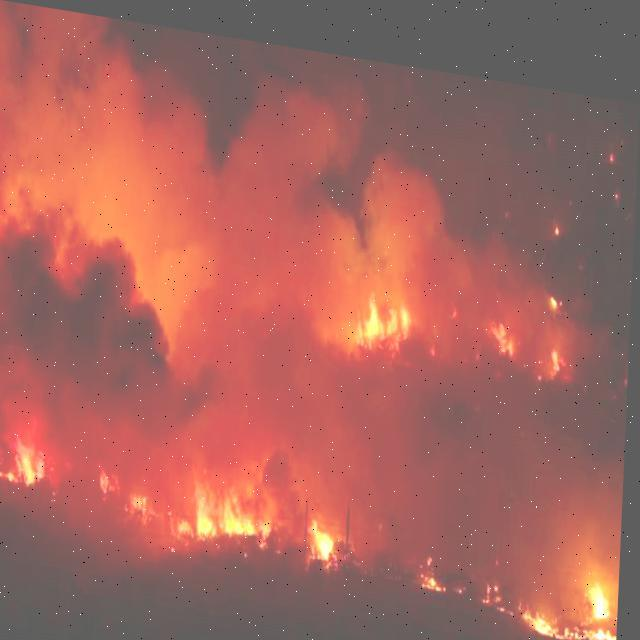Fire: (15, 416, 352, 558), (347, 259, 576, 383), (529, 548, 623, 632)
